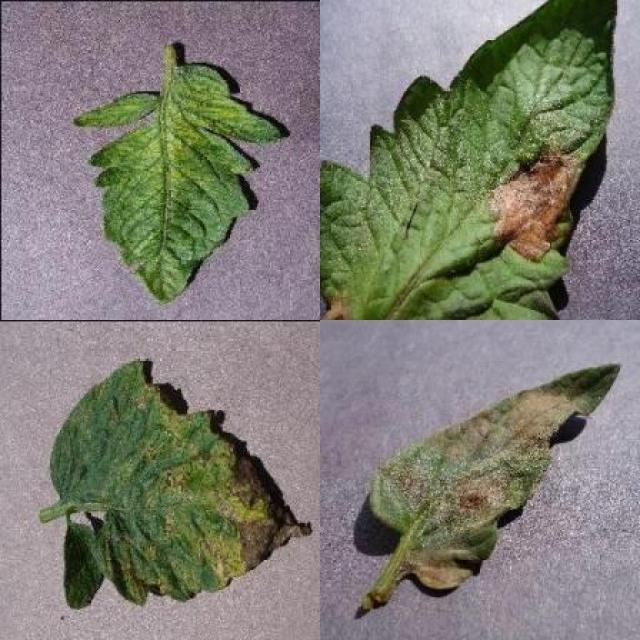Late Blight: (320, 0, 619, 320), (369, 360, 622, 590)
Mosaic Virus: (71, 62, 282, 305)
Septoria: (50, 360, 316, 607)
